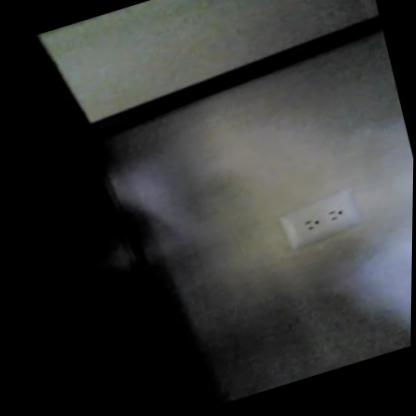OUTLET: (277, 186, 366, 252)
